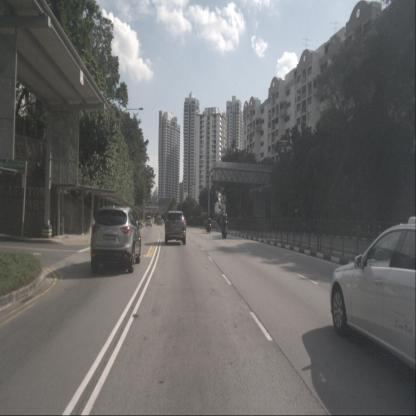human-pedestrian-adult: (27, 210, 33, 238)
vehicle-car: (329, 222, 416, 374), (90, 205, 141, 273), (165, 210, 186, 244), (146, 216, 152, 227), (157, 216, 162, 226), (156, 215, 161, 223)
vehicle-motorcycle: (220, 213, 228, 240), (206, 216, 212, 234)
vehicle-truck: (154, 209, 160, 224)
